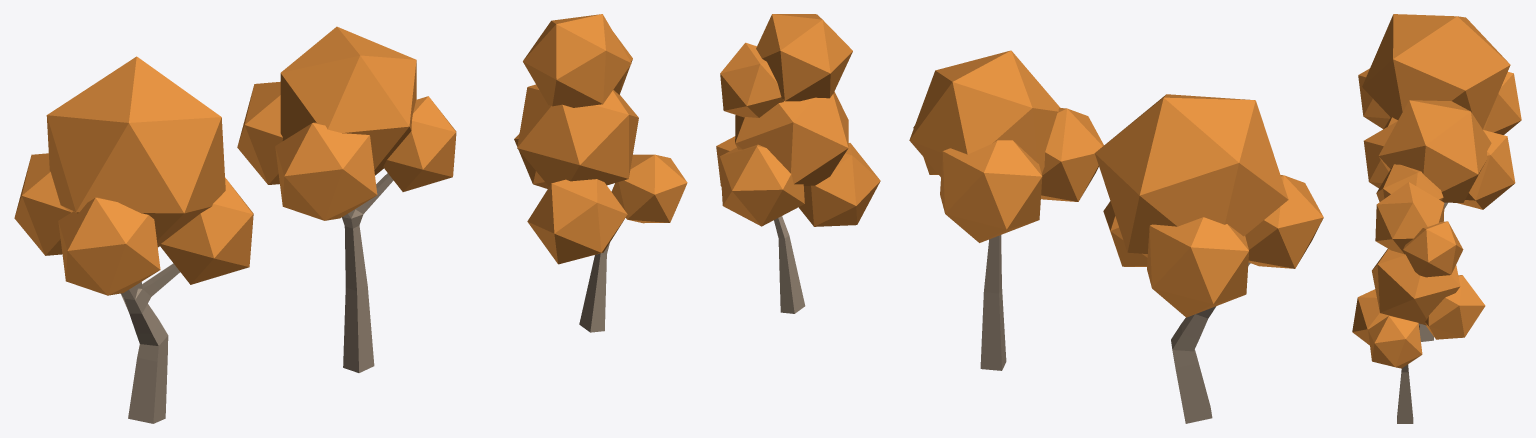
File: tree.fbx
3 renders of one model, left to right at view 1: azimuth 30°, elevation 25°; view 2: azimuth 150°, elevation 25°; view 3: azimuth 270°, elevation 25°, orthographic. The views are drawn at different scales.
Visible parts, largest first — view 1: Icosphere.017, Icosphere.014, Icosphere.009, Icosphere.012, Icosphere.015, Icosphere.007, Icosphere, Icosphere.018, Plane.002, Icosphere.011, Plane.001, Icosphere.003 (+3 smaller); view 2: Icosphere.017, Icosphere.014, Icosphere.013, Icosphere.016, Icosphere.009, Icosphere.007, Icosphere.002, Icosphere.015, Icosphere.012, Icosphere, Icosphere.006, Plane.002 (+3 smaller); view 3: Icosphere.017, Icosphere.014, Icosphere.009, Icosphere.007, Icosphere.006, Icosphere.003, Icosphere.013, Icosphere.002, Icosphere.016, Icosphere.011, Icosphere.012, Icosphere (+3 smaller).
Part boxes in pixels (bbox=[...]): Icosphere.017: bbox=[46, 56, 225, 247]; Icosphere.014: bbox=[280, 26, 416, 175]; Icosphere.009: bbox=[517, 84, 638, 186]; Icosphere.012: bbox=[275, 122, 377, 220]; Icosphere.015: bbox=[58, 197, 160, 295]; Icosphere.007: bbox=[523, 14, 631, 107]; Icosphere: bbox=[527, 179, 627, 264]; Icosphere.018: bbox=[159, 177, 253, 284]; Plane.002: bbox=[121, 263, 179, 423]; Icosphere.011: bbox=[383, 96, 456, 191]; Plane.001: bbox=[342, 173, 393, 372]; Icosphere.003: bbox=[611, 154, 687, 223]; Icosphere.017: bbox=[1094, 94, 1288, 253]; Icosphere.014: bbox=[909, 50, 1060, 176]; Icosphere.013: bbox=[940, 140, 1042, 242]; Icosphere.016: bbox=[1147, 217, 1249, 317]; Icosphere.009: bbox=[735, 91, 848, 185]; Icosphere.007: bbox=[756, 14, 852, 101]; Icosphere.002: bbox=[720, 144, 804, 226]; Icosphere.015: bbox=[1245, 175, 1323, 268]; Icosphere.012: bbox=[1041, 108, 1103, 201]; Icosphere: bbox=[798, 143, 880, 226]; Icosphere.006: bbox=[720, 42, 783, 117]; Plane.002: bbox=[1171, 262, 1250, 423]; Icosphere.017: bbox=[1362, 14, 1510, 129]; Icosphere.014: bbox=[1378, 100, 1491, 202]; Icosphere.009: bbox=[1372, 249, 1460, 325]; Icosphere.007: bbox=[1375, 182, 1444, 254]; Icosphere.006: bbox=[1403, 221, 1463, 277]; Icosphere.003: bbox=[1368, 316, 1422, 368]; Icosphere.013: bbox=[1457, 130, 1515, 209]; Icosphere.002: bbox=[1425, 275, 1485, 339]; Icosphere.016: bbox=[1483, 72, 1521, 134]; Icosphere.011: bbox=[1376, 164, 1443, 201]; Icosphere.012: bbox=[1363, 121, 1397, 188]; Icosphere: bbox=[1352, 289, 1392, 345].
Size of the model in its own units: 3379 by 1821 by 1096.
